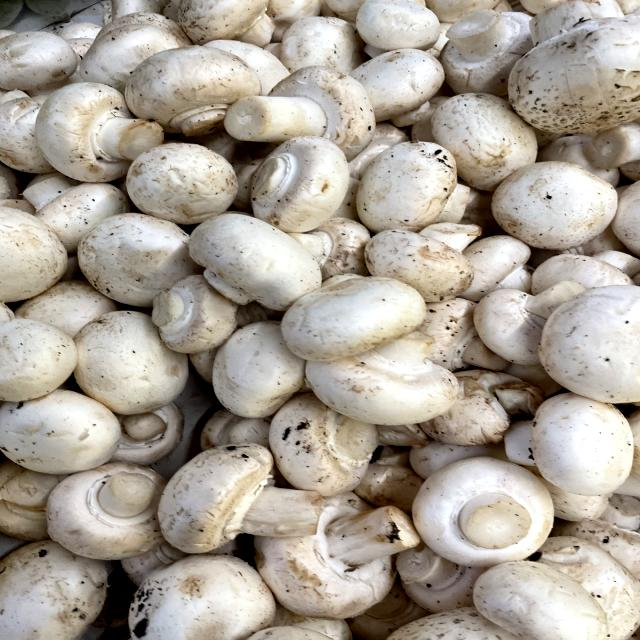mushroom: (142, 430, 338, 567), (247, 494, 437, 622), (403, 443, 564, 569), (276, 264, 439, 368), (31, 72, 170, 188), (222, 64, 378, 166), (185, 205, 324, 316), (33, 457, 175, 562), (117, 41, 266, 140), (480, 150, 625, 251)
